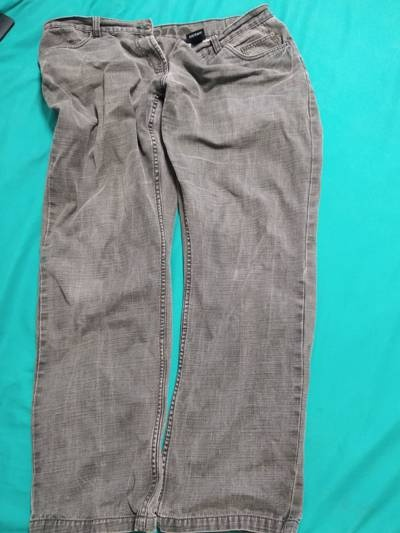Pants: (12, 11, 335, 529)
